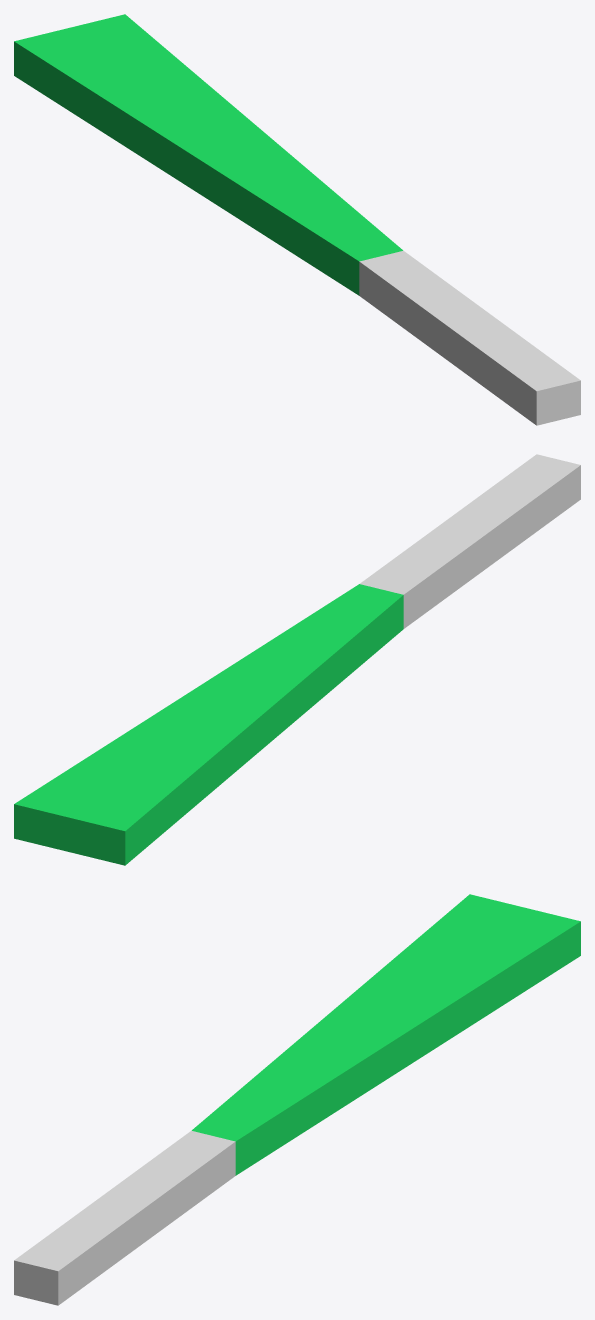
The model's file is green_onion.glb.
The picture shows the model from 3 angles, top to bottom: view 1: azimuth 30°, elevation 25°; view 2: azimuth 150°, elevation 25°; view 3: azimuth 330°, elevation 25°; orthographic projection.
Visible parts, largest first — view 1: Cube; view 2: Cube; view 3: Cube.
Part boxes in pixels (left/top/right/bottom): Cube: left=14, top=14, right=580, bottom=425; Cube: left=14, top=454, right=580, bottom=865; Cube: left=14, top=894, right=580, bottom=1305.
Size of the model in its own units: 0.1348 by 0.0399 by 1.03.
